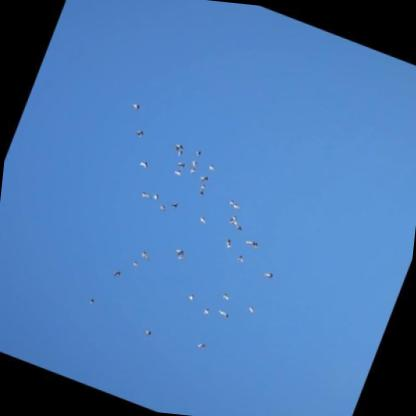bird: (137, 247, 154, 261), (258, 267, 275, 281), (226, 211, 240, 227), (214, 307, 231, 320), (243, 238, 260, 250), (170, 140, 184, 153), (231, 221, 245, 233), (195, 339, 209, 351), (136, 159, 151, 170), (139, 190, 154, 201), (110, 267, 123, 279), (205, 161, 218, 173), (222, 236, 234, 249), (168, 198, 182, 209), (189, 157, 202, 168), (135, 126, 147, 137), (186, 165, 198, 176), (232, 201, 244, 212), (234, 252, 246, 263), (197, 173, 210, 183), (196, 215, 209, 225), (127, 101, 141, 110), (175, 159, 186, 170), (193, 146, 204, 157), (141, 326, 152, 337), (198, 181, 209, 192), (155, 202, 167, 212), (171, 167, 183, 177), (173, 246, 186, 255), (201, 305, 212, 315), (221, 291, 232, 301), (246, 303, 257, 313), (129, 258, 141, 267), (87, 295, 98, 304), (175, 252, 186, 261), (174, 148, 183, 158), (186, 292, 195, 302), (198, 188, 207, 197), (228, 198, 237, 207), (151, 192, 160, 200)
